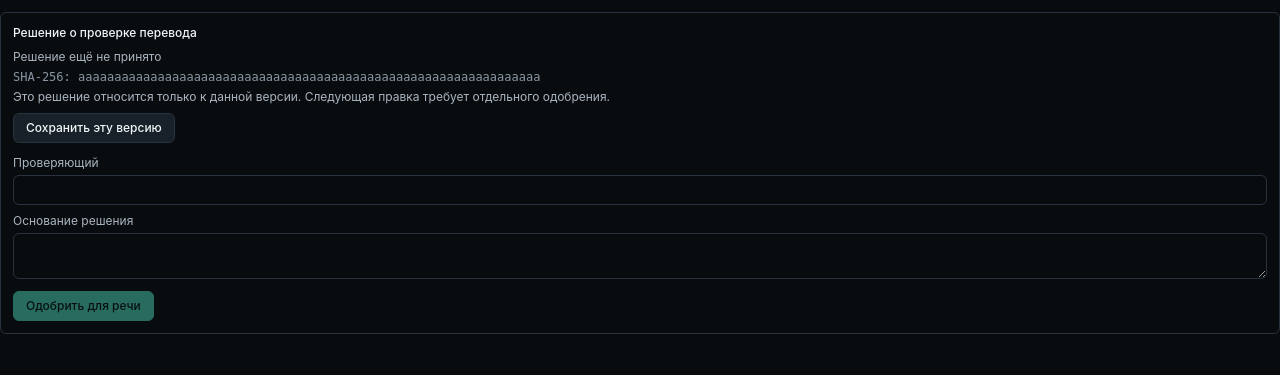
Test: exports an unapproved exact result after a save location is chosen
Check: the text "Решение ещё не принято" is shown, box [13,49,162,64]
Click the button "Сохранить эту версию" at (94, 128), box [13,113,175,143]
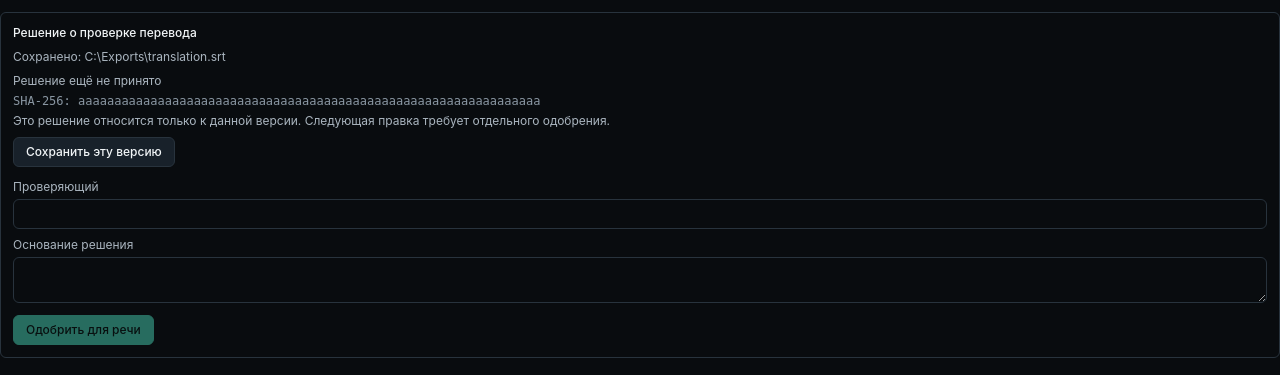
Check: the text "Сохранено: C:\\Exports\\translation.srt" is shown, box [13,49,226,64]
